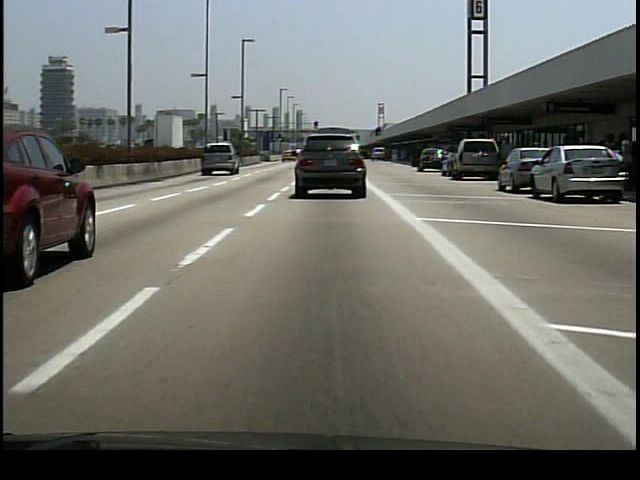car: (6, 134, 99, 278), (292, 129, 368, 198), (539, 142, 625, 198), (450, 139, 499, 181), (502, 148, 539, 193), (194, 140, 241, 175)
strada: (15, 152, 620, 447)
